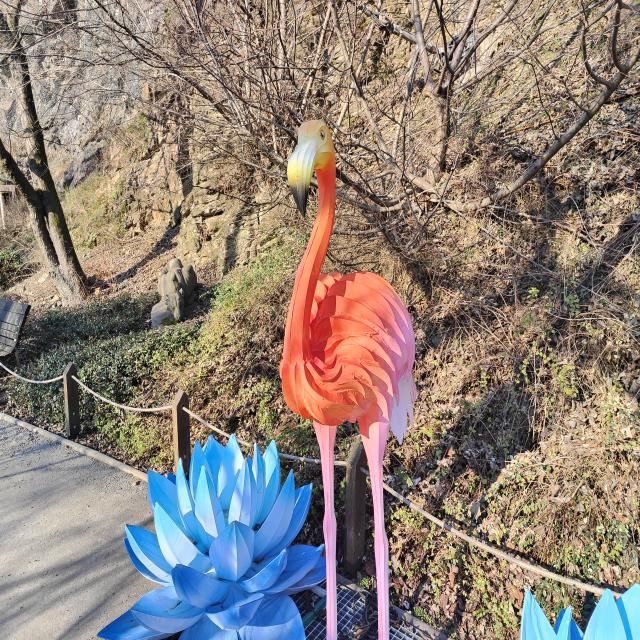bird: (279, 119, 419, 640)
